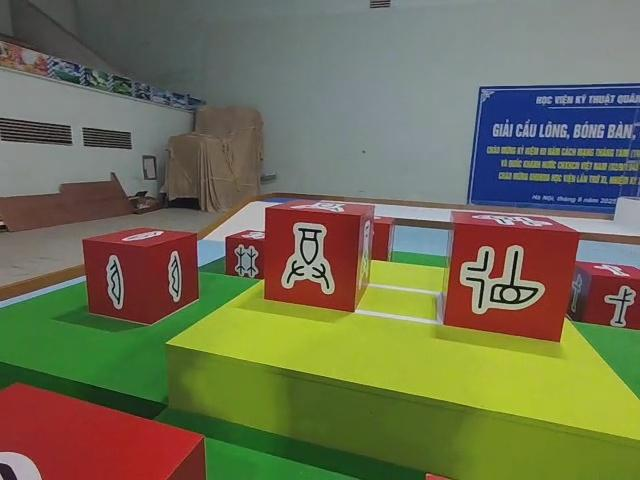R2 Real: (445, 211, 580, 342), (265, 200, 375, 313), (81, 228, 197, 324), (567, 262, 639, 330), (223, 229, 265, 284)
